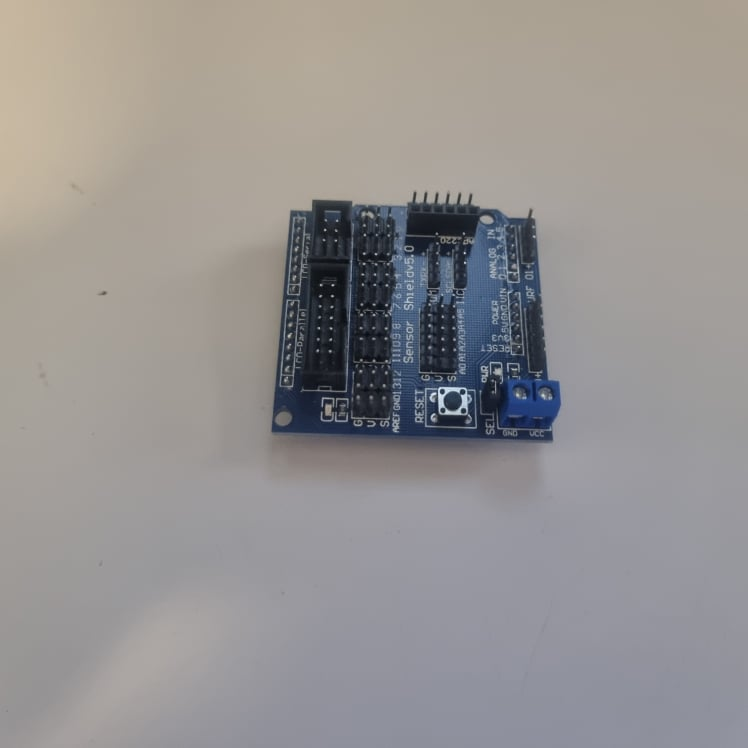5V EXPANSION: (268, 186, 566, 441)
